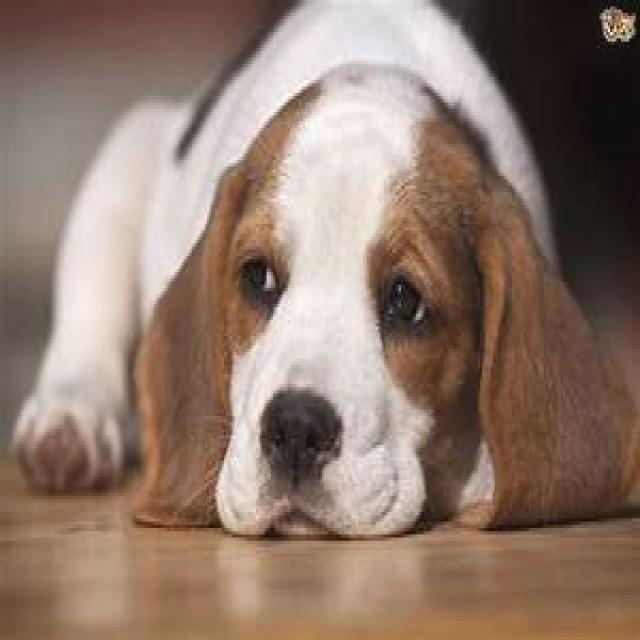KOPEK: (15, 1, 640, 531)
